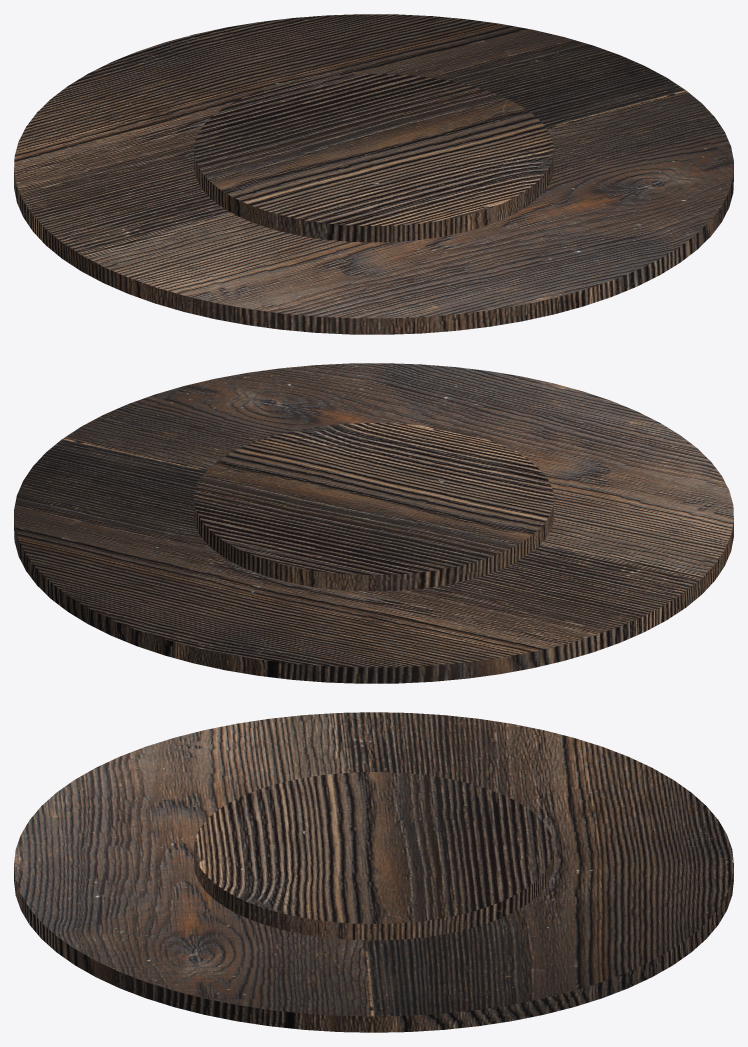
File: wood_table.dae
3 renders of one model, top to bottom at view 1: azimuth 30°, elevation 25°; view 2: azimuth 150°, elevation 25°; view 3: azimuth 270°, elevation 25°, orthographic.
Visible parts, largest first — view 1: Cylinder; view 2: Cylinder; view 3: Cylinder.
Part boxes in pixels (box(x1,y1,x2,y2)): Cylinder: box(14, 14, 733, 334); Cylinder: box(14, 363, 733, 683); Cylinder: box(14, 712, 733, 1032).
Size of the model in its own units: 4 by 4 by 0.2.
Materials: 1 (1 with a texture image).
